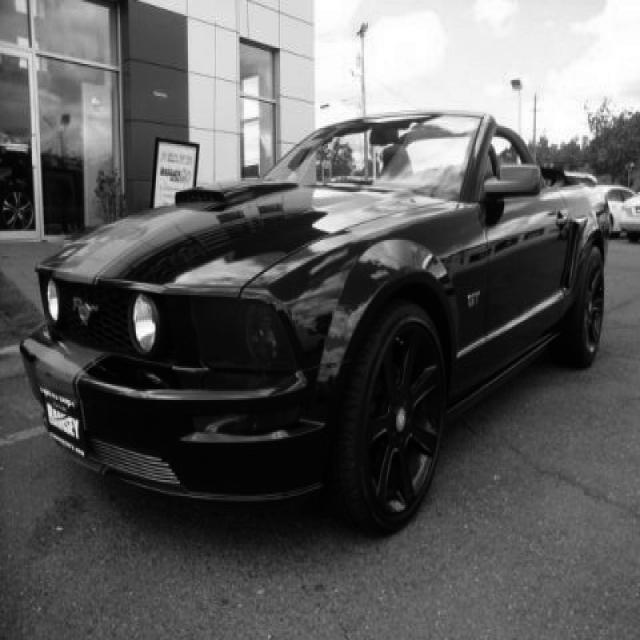car: (19, 107, 609, 537)
